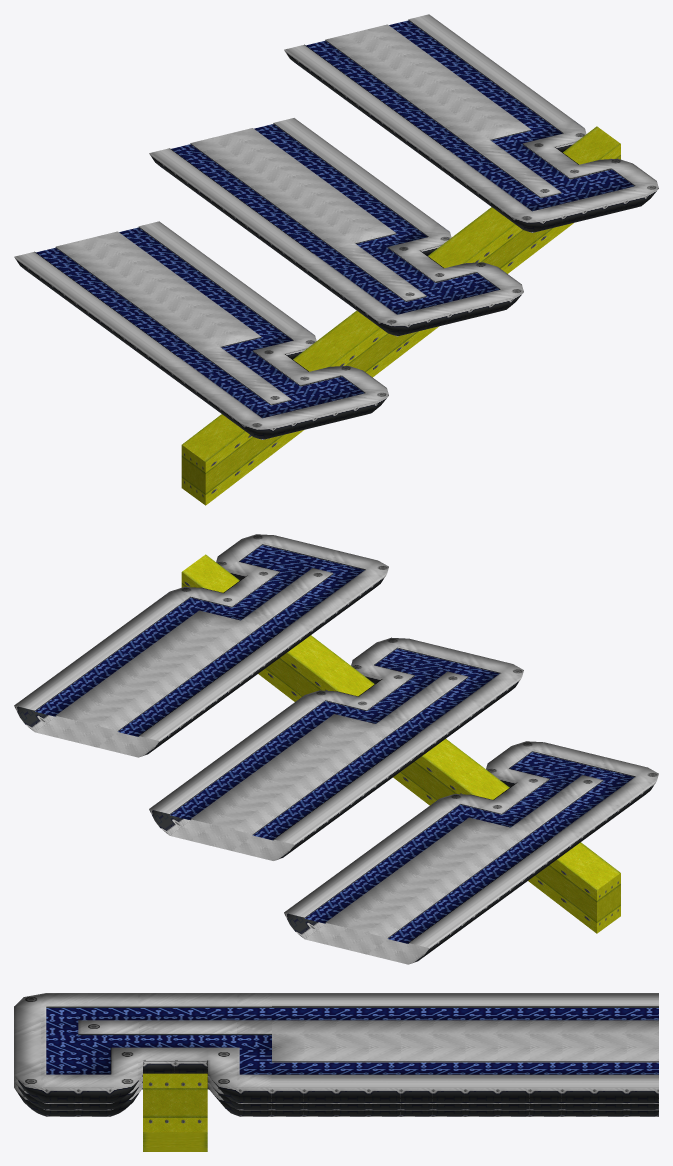
The model's file is improved_stair_0.glb.
3 views of the same model, one above another, from view 1: azimuth 30°, elevation 25°; view 2: azimuth 150°, elevation 25°; view 3: azimuth 270°, elevation 25° (orthographic). The views are drawn at different scales.
Parts seen in each view (by area): view 1: Cube.001; view 2: Cube.001; view 3: Cube.001.
Part boxes in pixels (bbox=[...]): Cube.001: bbox=[14, 14, 658, 505]; Cube.001: bbox=[14, 534, 658, 964]; Cube.001: bbox=[14, 993, 658, 1151].
Bounding box in the file's own units: 2 × 1.2 × 2.
1 material, 1 textured.
